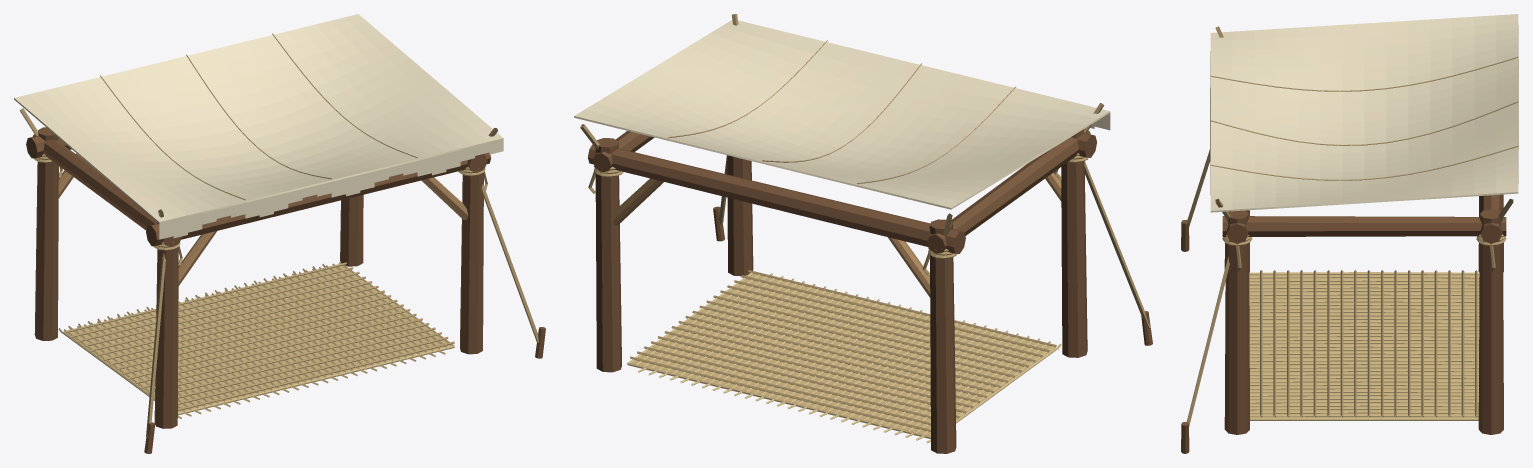
3 views of the same model, side by side, from view 1: azimuth 30°, elevation 25°; view 2: azimuth 150°, elevation 25°; view 3: azimuth 270°, elevation 25° (orthographic). The views are drawn at different scales.
Visible parts, largest first — view 1: BA-0004 batched; view 2: BA-0004 batched; view 3: BA-0004 batched.
Boxes of the visible parts, x1,y1,x2,y2 form: BA-0004 batched: [14, 14, 545, 453]; BA-0004 batched: [574, 14, 1152, 453]; BA-0004 batched: [1181, 14, 1518, 453].
Size of the model in its own units: 3.28 by 1.85 by 2.26.
